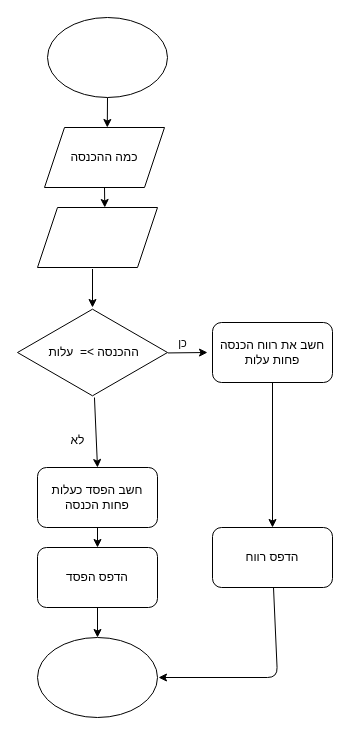
This 350x735 diagram has some shape labels left out. Each missing label, with the box of its shape:
התחלה: (46, 16, 168, 98)
כמה העלות: (36, 206, 158, 268)
סיום: (36, 636, 158, 718)
